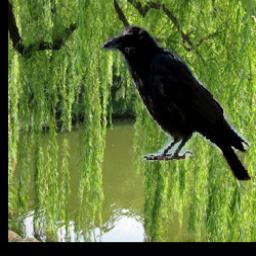Crow: (101, 25, 252, 182)
